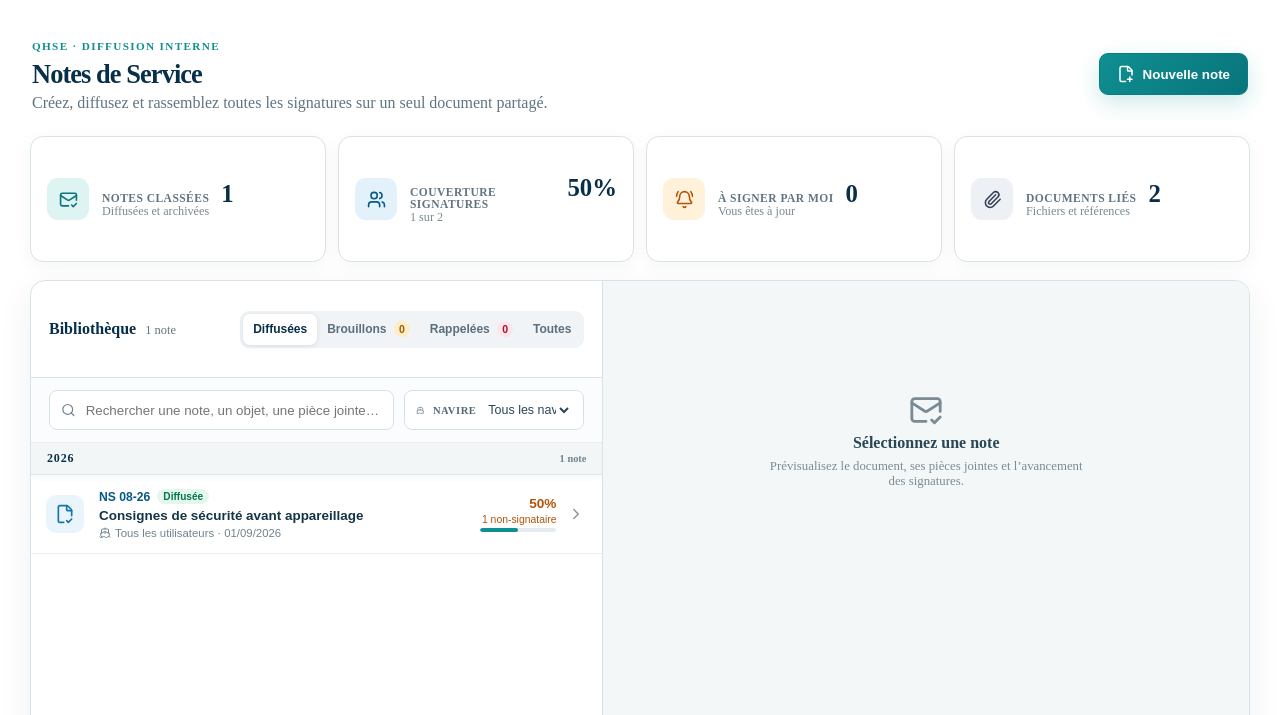
Test: ServiceNotesPage › closes the pending source popup for Le lien du document est invalide. without opening the old SharePoint source
Click the text "NS 08-26" at (125, 496), box [99,490,150,504]
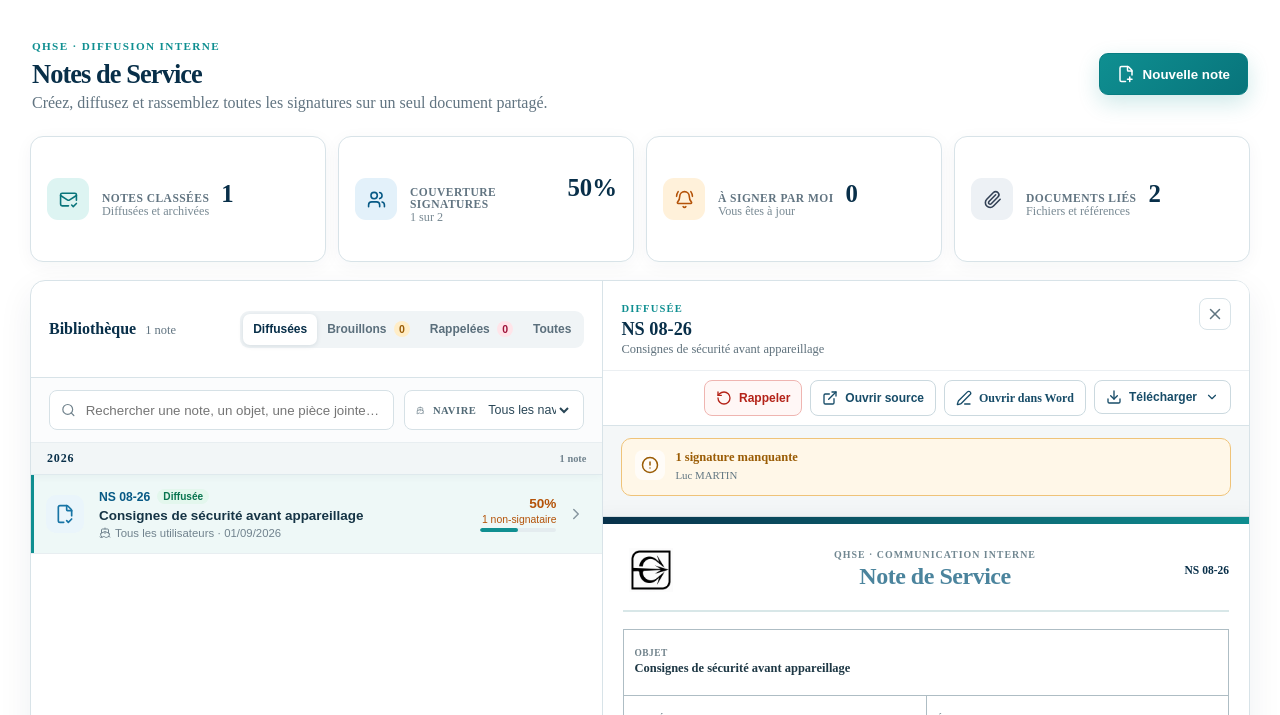
Click the button "Ouvrir source" at (873, 398), box [810,380,936,416]
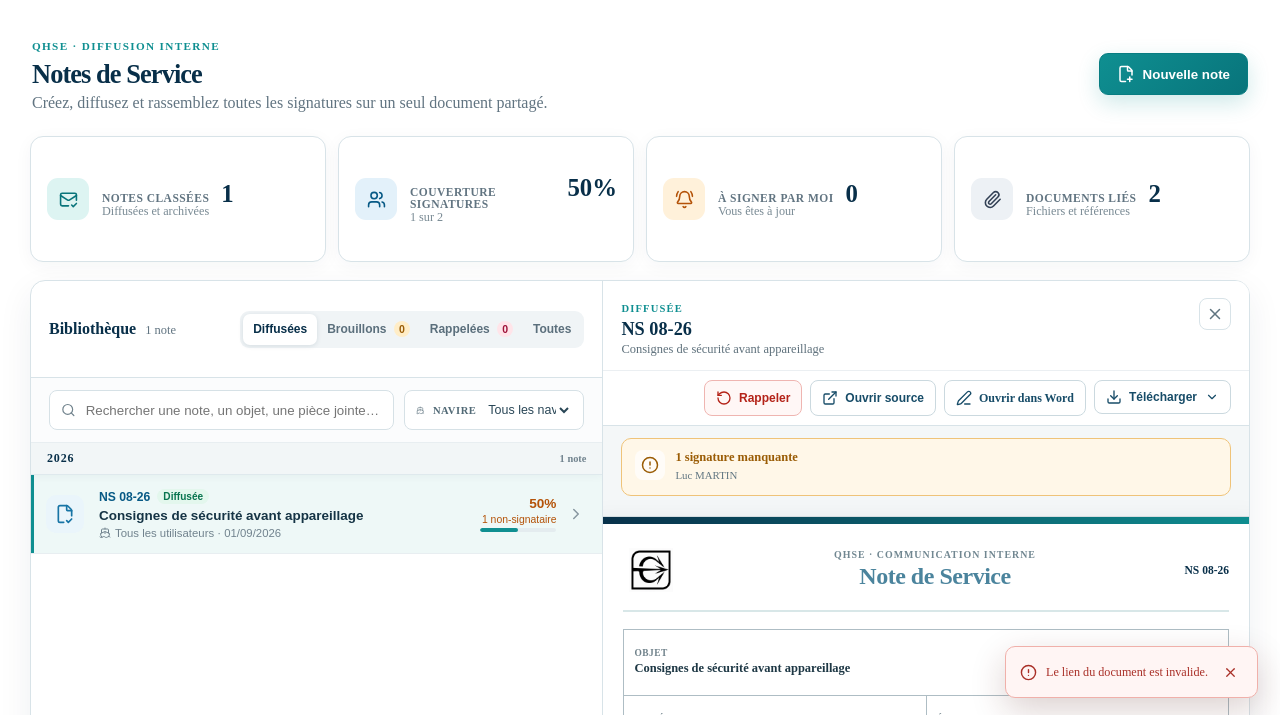
Now the text "Le lien du document est invalide." is shown, box [1005,646,1258,698]
